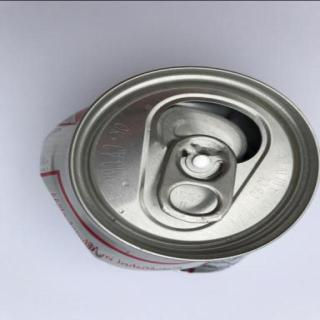Anorganik: (40, 64, 318, 274)
